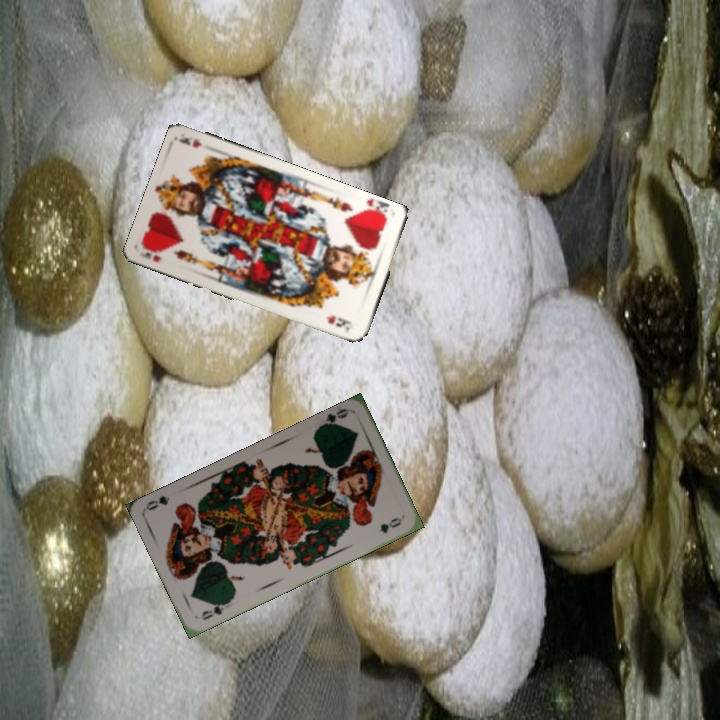GO: (314, 404, 351, 431), (197, 596, 233, 623)
HK: (355, 198, 391, 223), (137, 248, 165, 264)
